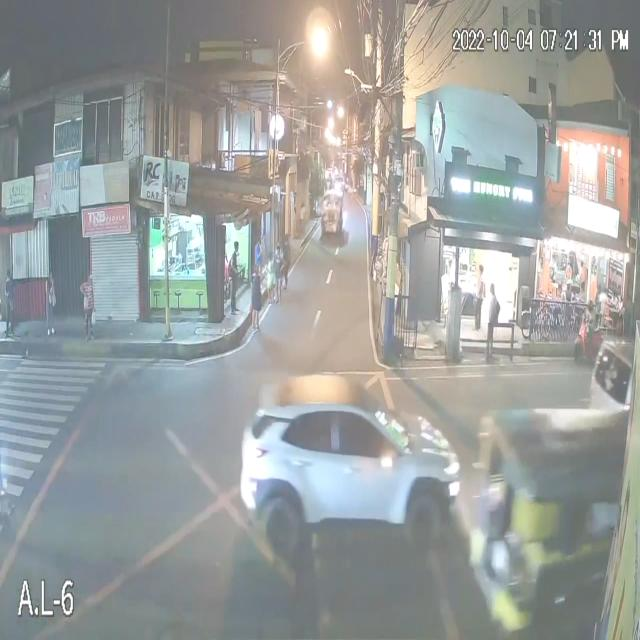Full-Faced: (586, 298, 592, 313)
